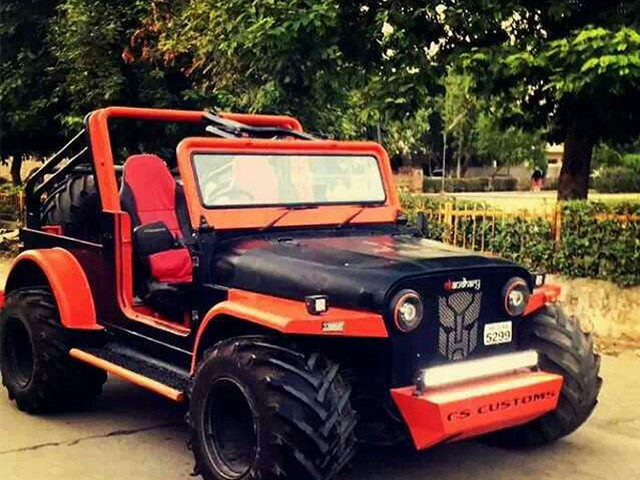Vehicle: (4, 99, 604, 470)
